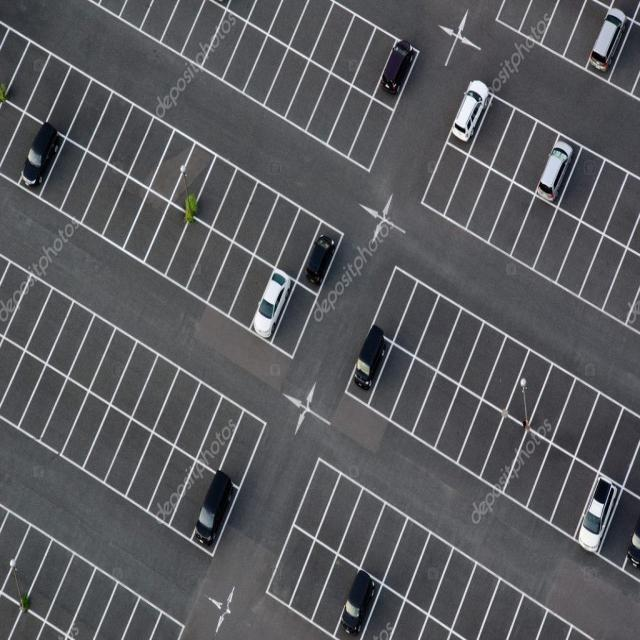libre: (0, 19, 321, 329), (369, 261, 639, 570), (0, 252, 268, 540), (266, 459, 584, 639), (416, 96, 639, 343), (1, 497, 186, 639), (496, 0, 608, 69), (610, 14, 639, 107)
ocupado: (571, 469, 624, 571), (190, 464, 238, 557), (580, 2, 633, 82), (14, 115, 66, 194), (245, 264, 296, 343), (532, 131, 584, 208), (443, 76, 496, 151), (348, 324, 396, 403), (296, 219, 343, 297), (335, 563, 382, 639), (374, 30, 422, 99), (621, 508, 639, 576)
